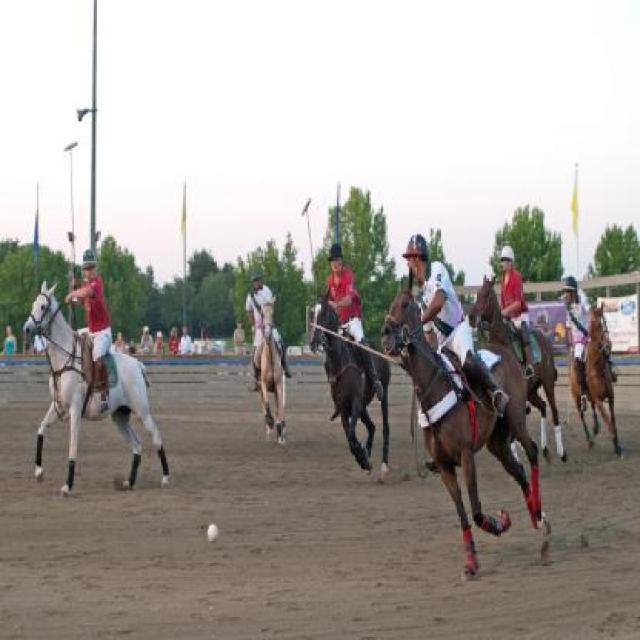Person: (412, 234, 510, 471), (325, 239, 383, 427), (64, 248, 113, 409), (564, 274, 618, 418), (498, 245, 537, 378), (246, 272, 289, 392), (195, 325, 210, 353), (179, 327, 195, 353), (150, 329, 164, 353), (5, 329, 17, 356), (234, 319, 243, 355), (140, 330, 154, 353), (168, 326, 178, 356)
